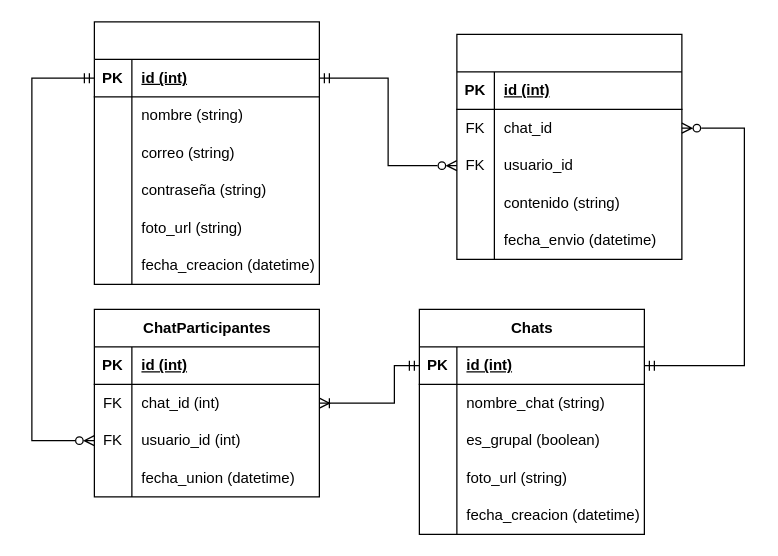
Image size: 778x556. Some labels were removed from this diagram. The box of each missing label's shape, as (x1, y1, x2, y2) in pixels:
Mensajes: (456, 33, 682, 259)
Usuarios: (93, 21, 319, 284)
